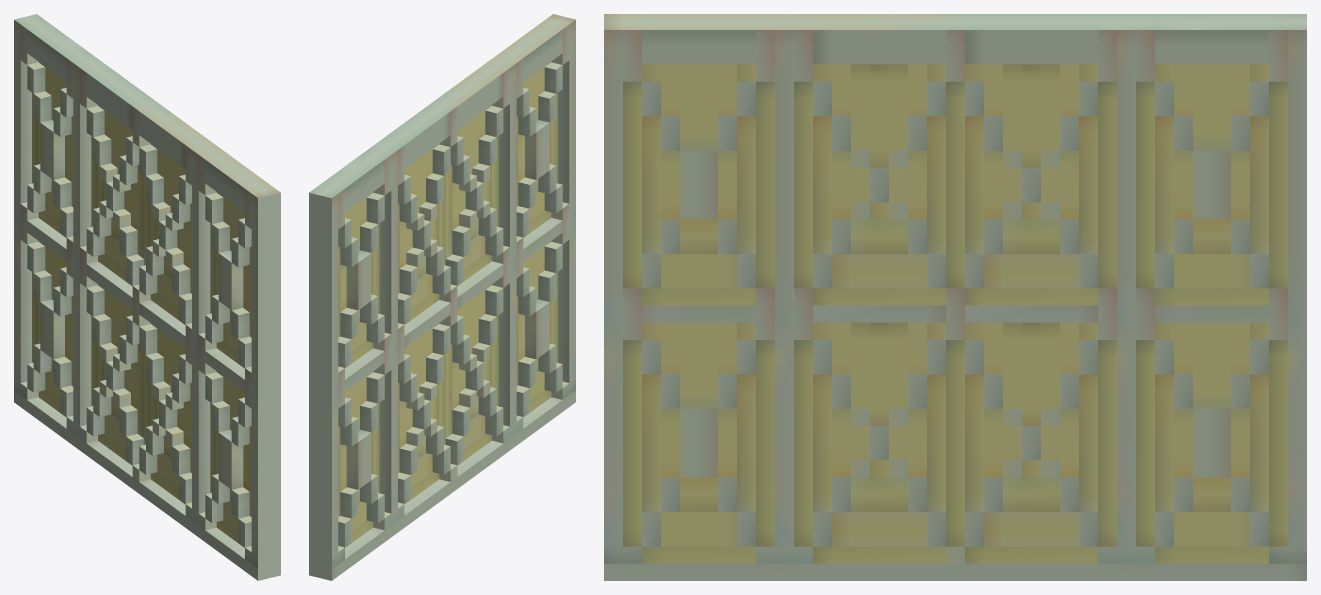
Rendered from CrossFramesOutside_00.fbx.
3 views of the same model, side by side, from view 1: azimuth 30°, elevation 25°; view 2: azimuth 150°, elevation 25°; view 3: azimuth 270°, elevation 25° (orthographic). The views are drawn at different scales.
Parts seen in each view (by area): view 1: CrossFramesOutside_00; view 2: CrossFramesOutside_00; view 3: CrossFramesOutside_00.
Part boxes in pixels (x1=…): CrossFramesOutside_00: x1=14, y1=14, x2=280, y2=580; CrossFramesOutside_00: x1=309, y1=14, x2=575, y2=580; CrossFramesOutside_00: x1=604, y1=14, x2=1306, y2=580.
Bounding box in the file's own units: 10 × 185 × 160.
2 materials, 2 textured.
